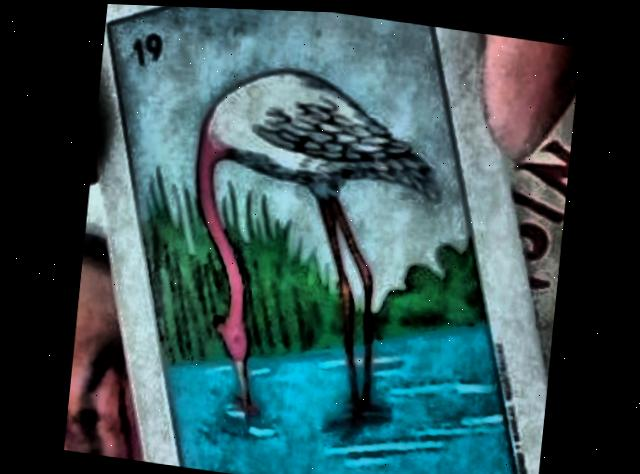El Garza: (105, 5, 515, 474)
